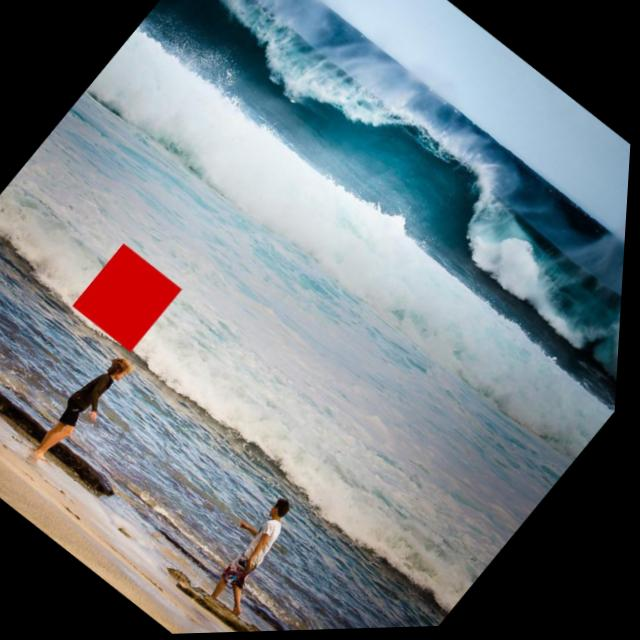RedSquare: (66, 235, 194, 360)
